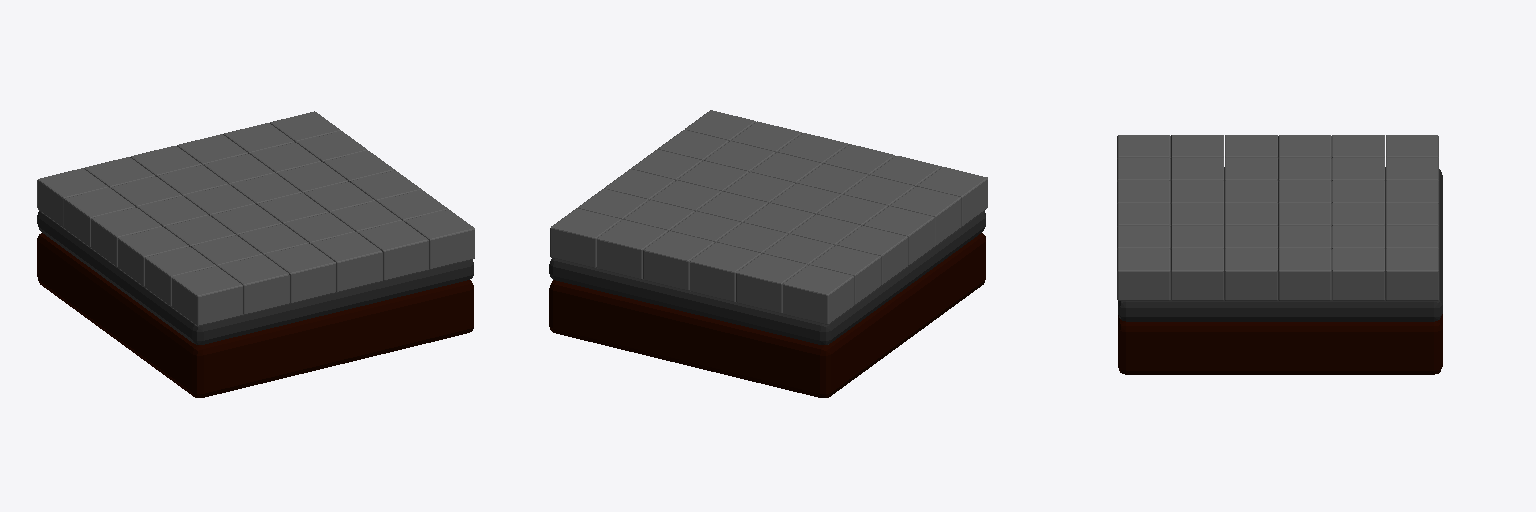
Rendered from ground_stone.obj.
3 renders of one model, left to right at view 1: azimuth 30°, elevation 25°; view 2: azimuth 150°, elevation 25°; view 3: azimuth 270°, elevation 25°, orthographic.
Visible parts, largest first — view 1: ground_stone; view 2: ground_stone; view 3: ground_stone.
Boxes of the visible parts, box(x1,y1,x2,y2) form: ground_stone: box(37, 111, 474, 397); ground_stone: box(549, 110, 987, 397); ground_stone: box(1117, 135, 1442, 374).
Size of the model in its own units: 8 by 2.9 by 8.01.